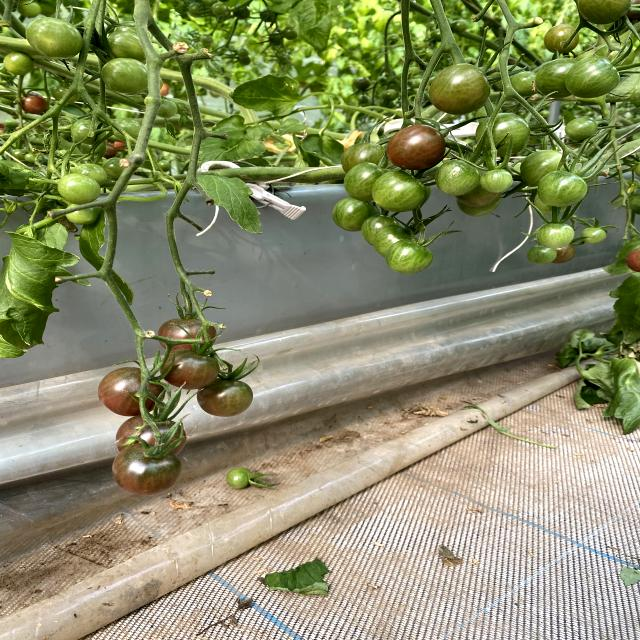ripe0: (428, 62, 490, 114), (25, 17, 83, 59), (372, 169, 426, 212), (568, 56, 620, 99), (538, 171, 588, 207), (100, 58, 150, 93), (387, 239, 434, 274), (59, 173, 101, 204), (333, 197, 366, 232), (538, 222, 574, 249), (480, 169, 514, 193), (565, 117, 599, 141), (226, 467, 258, 491), (4, 52, 34, 76)
ripe1: (111, 444, 182, 495), (98, 367, 165, 416), (386, 123, 447, 171), (114, 417, 187, 448), (163, 349, 220, 388), (198, 379, 253, 418), (158, 318, 217, 349), (20, 91, 48, 115)
